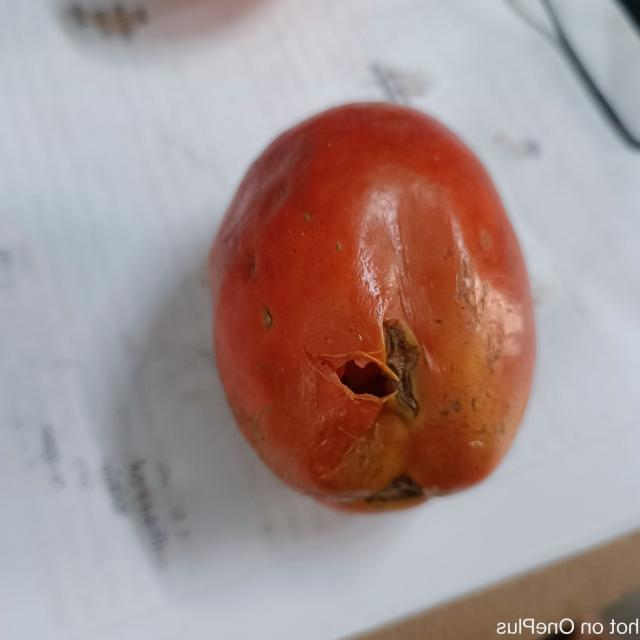Botrytis: (336, 316, 426, 422), (258, 303, 278, 332)
